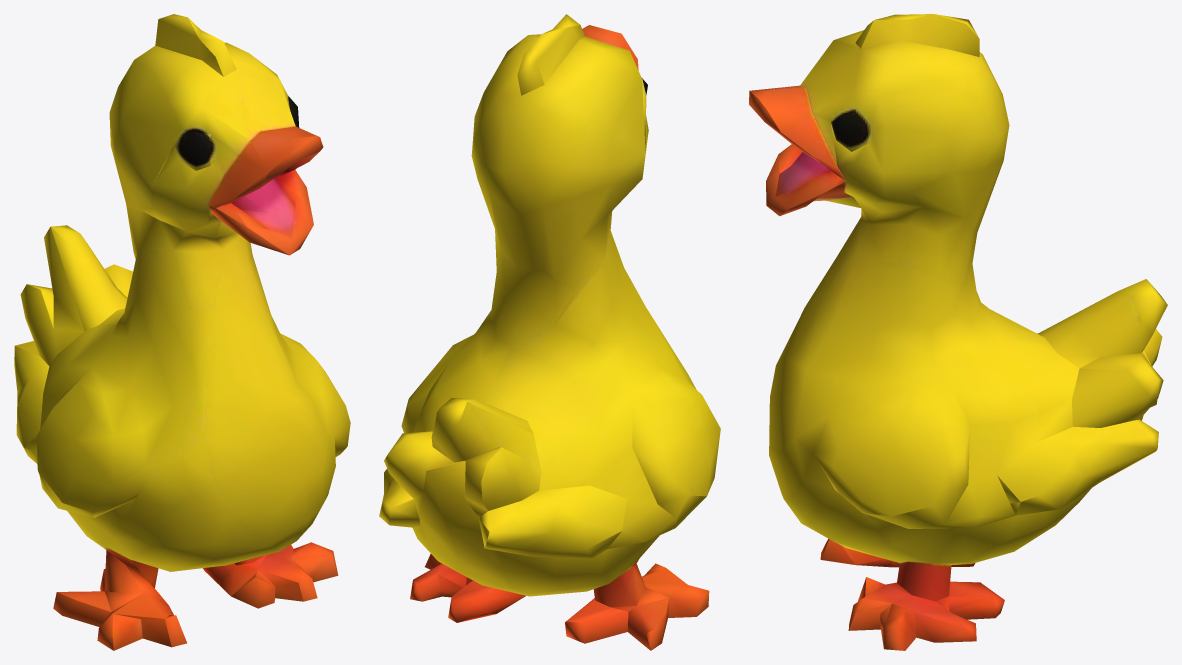
Rendered from chicken.glb.
3 renders of one model, left to right at view 1: azimuth 30°, elevation 25°; view 2: azimuth 150°, elevation 25°; view 3: azimuth 270°, elevation 25°, orthographic.
Visible parts, largest first — view 1: model; view 2: model; view 3: model.
Part boxes in pixels (x1,y1,x2,y2): model: (14, 14, 350, 650); model: (379, 14, 720, 650); model: (749, 14, 1167, 650).
Bounding box in the file's own units: 0.9795 × 1.9 × 1.25.
1 material, 1 textured.
